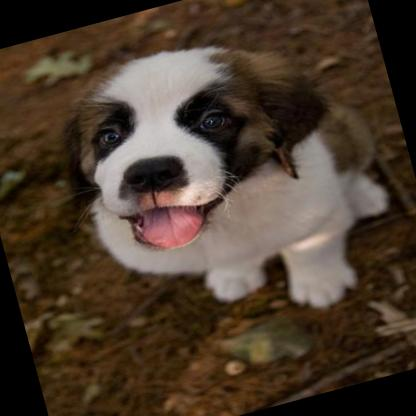Saint_Bernard: (30, 0, 406, 363)
